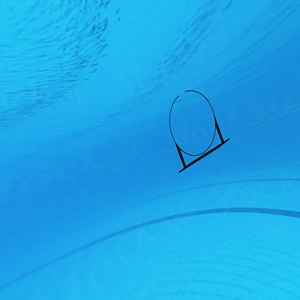circle: (166, 88, 232, 175)
